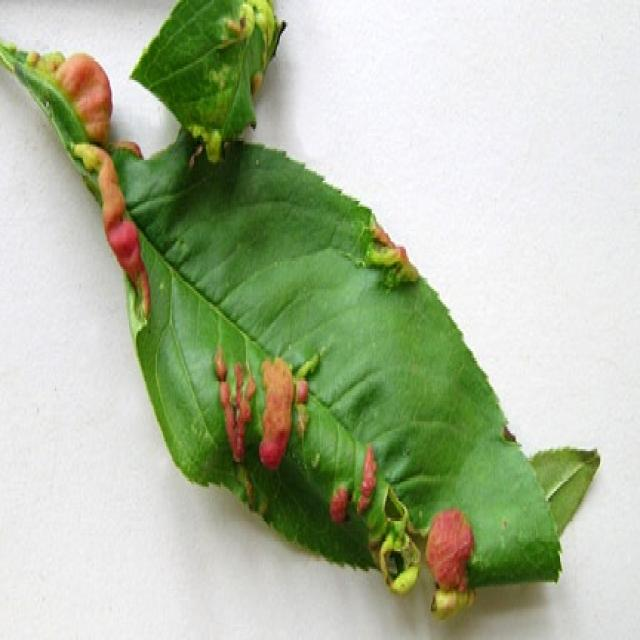peach_leaf_curl: (0, 0, 600, 624)
